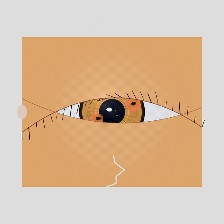foreign_body_visible: (86, 109, 111, 128)
